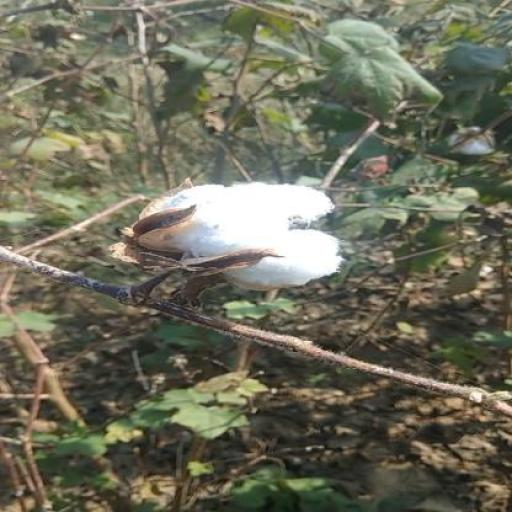cotton_ready: (78, 164, 369, 337)
